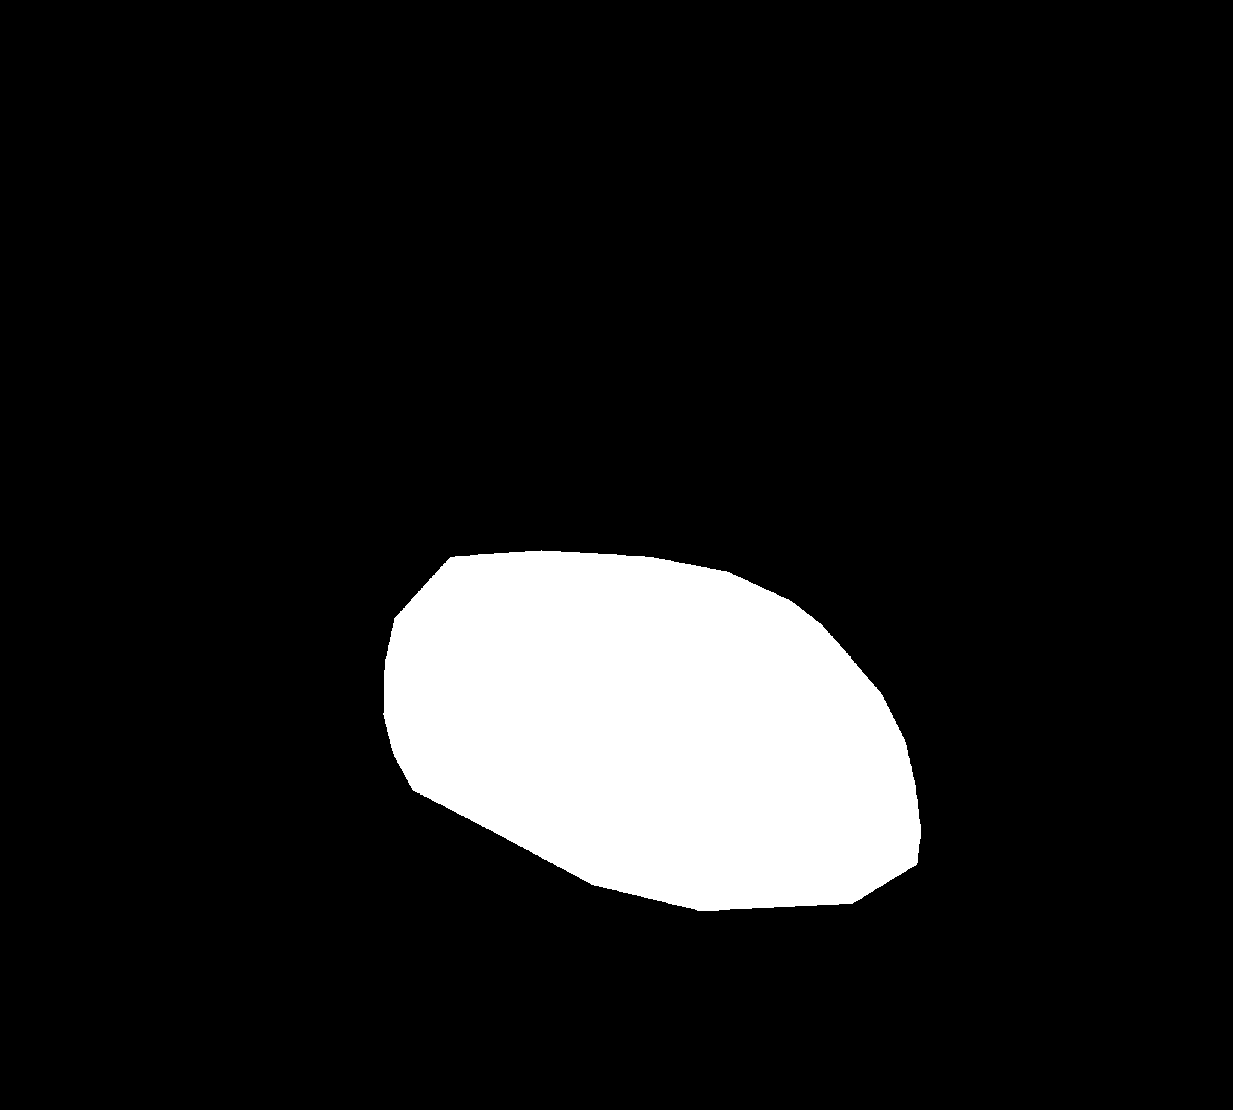heart: (378, 591, 923, 944)
left_lung: (117, 247, 542, 842)
right_lung: (726, 277, 1076, 932)
